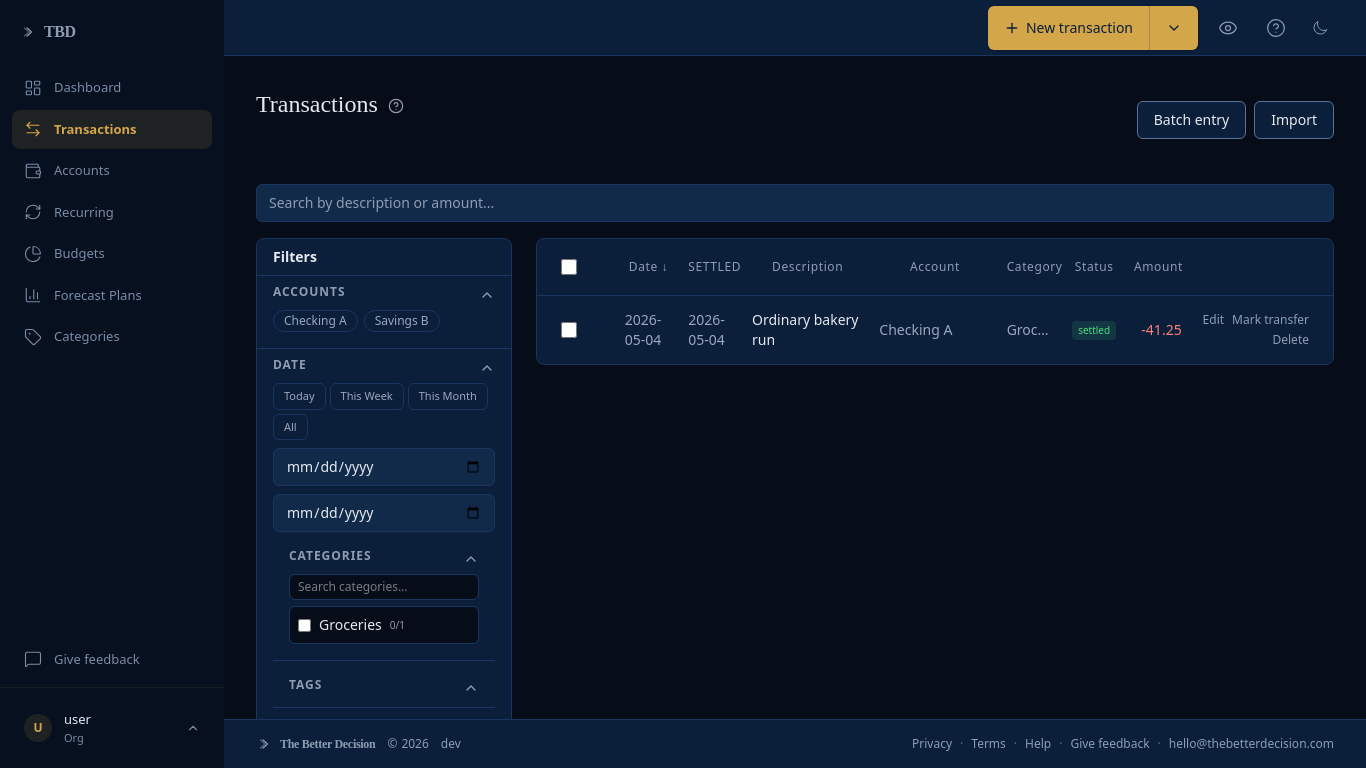
it: TBD-294 — the delete says what it did › clears the demotion notice on the next list load
Step 1. Click the button "Delete" → (1291, 340), box [1272,332,1309,348]
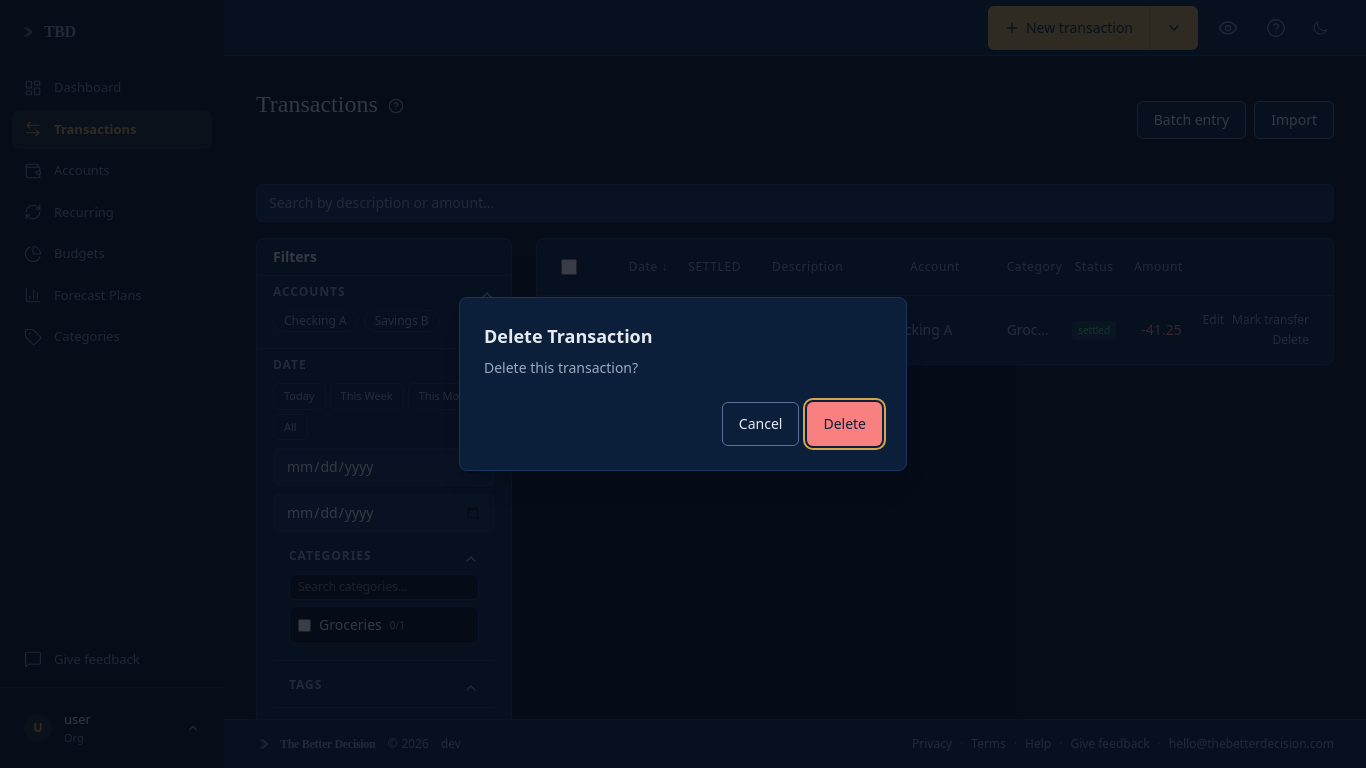
Step 2. Click the button "Delete" → (845, 424), box [807,402,882,446]
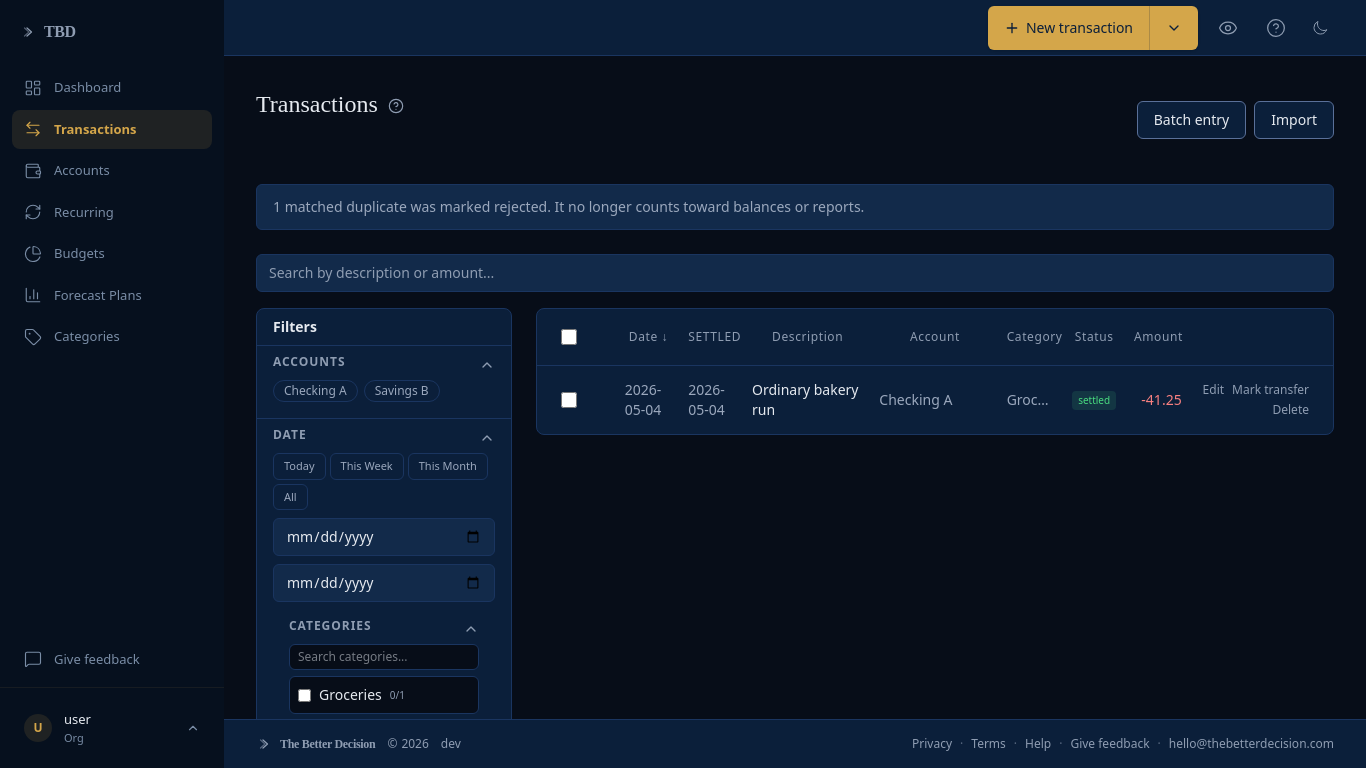
Expected: the text with test id "transactions-notice" is shown, [256,184,1334,230]
// Any list reload: a filter change is the cheapest one.
Step 3. Type "bakery" into the field named "Search transactions" → (795, 273), box [256,254,1334,292]
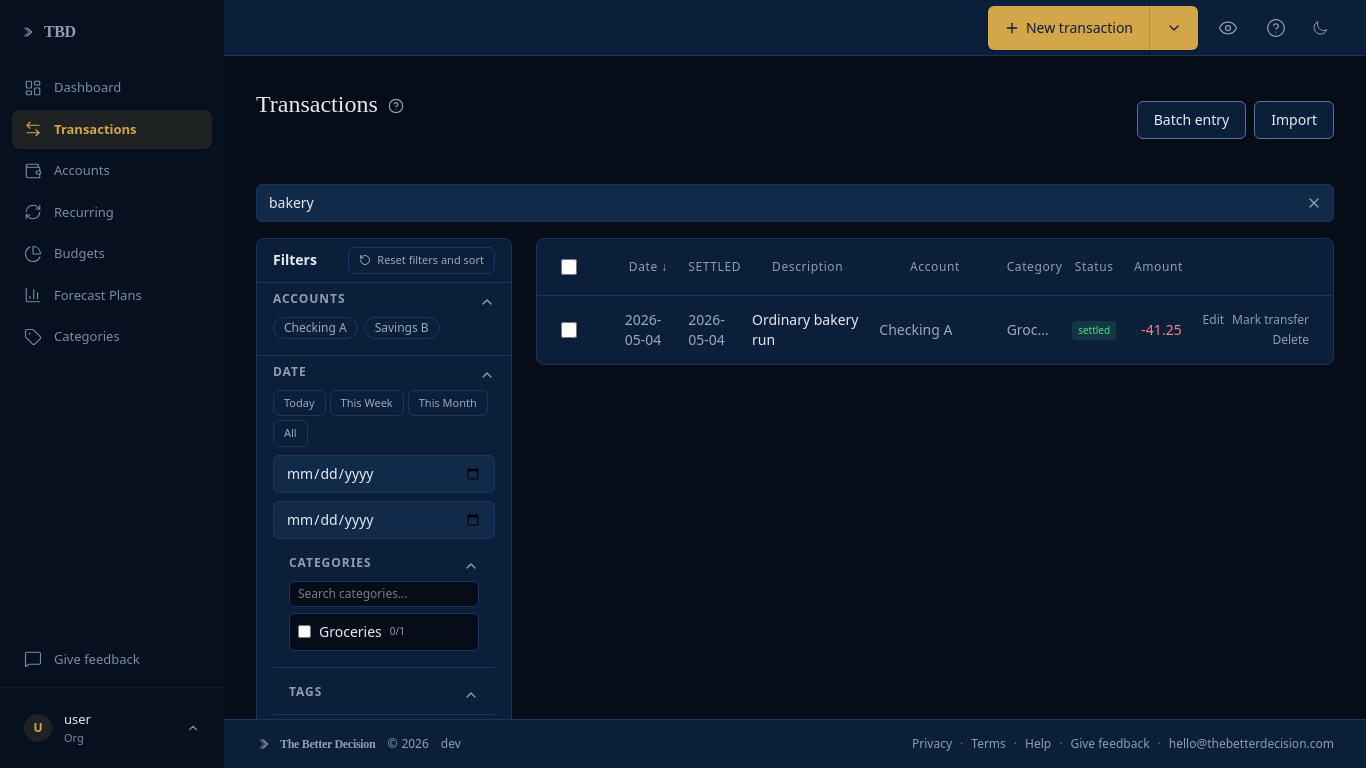
Expected: the text with test id "transactions-notice" is gone
